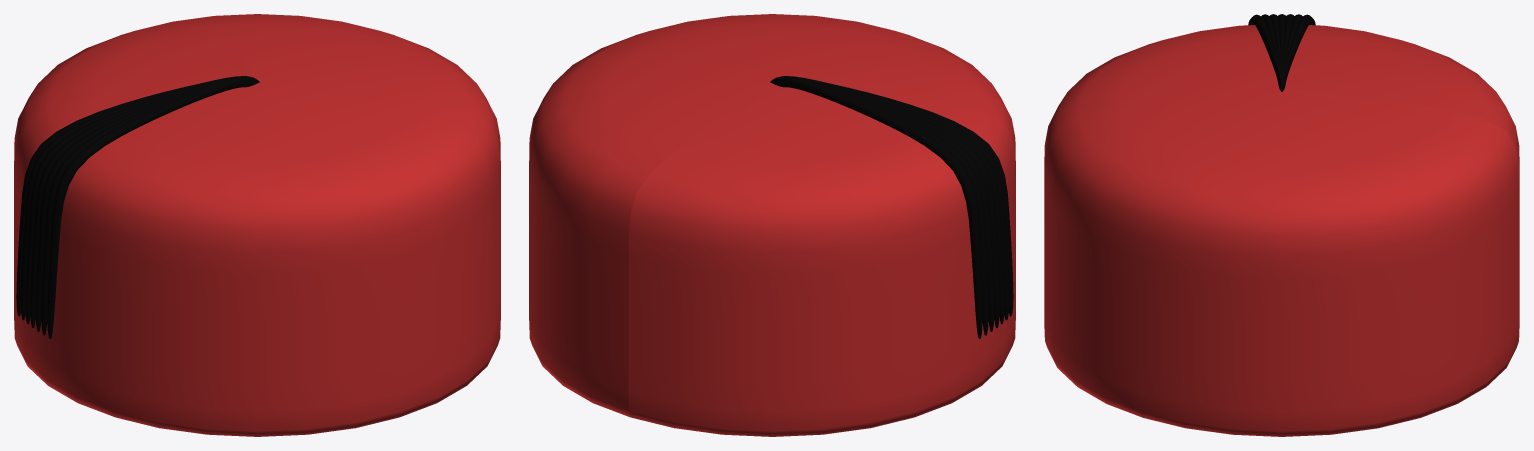
The model's file is Chechia.fbx.
3 views of the same model, side by side, from view 1: azimuth 30°, elevation 25°; view 2: azimuth 150°, elevation 25°; view 3: azimuth 270°, elevation 25° (orthographic). The views are drawn at different scales.
Parts seen in each view (by area): view 1: CHACHIYA MATERIAL _0, Object_27, Object_25, Object_17, Object_11, Object_9, Object_13, Object_15; view 2: CHACHIYA MATERIAL _0, Object_15, Object_13, Object_9, Object_11, Object_17, Object_25, Object_27; view 3: CHACHIYA MATERIAL _0, Object_15, Object_27.
Boxes of the visible parts, left/top/right/bottom form: CHACHIYA MATERIAL _0: left=14, top=14, right=500, bottom=436; Object_27: left=47, top=77, right=258, bottom=338; Object_25: left=41, top=77, right=251, bottom=335; Object_17: left=35, top=76, right=247, bottom=331; Object_11: left=30, top=76, right=250, bottom=328; Object_9: left=25, top=76, right=247, bottom=324; Object_13: left=20, top=76, right=249, bottom=320; Object_15: left=16, top=76, right=259, bottom=316; CHACHIYA MATERIAL _0: left=529, top=14, right=1015, bottom=436; Object_15: left=771, top=77, right=982, bottom=338; Object_13: left=778, top=77, right=988, bottom=335; Object_9: left=782, top=76, right=994, bottom=331; Object_11: left=779, top=76, right=999, bottom=328; Object_17: left=782, top=76, right=1004, bottom=324; Object_25: left=780, top=76, right=1009, bottom=320; Object_27: left=770, top=76, right=1013, bottom=316; CHACHIYA MATERIAL _0: left=1044, top=25, right=1519, bottom=436; Object_15: left=1281, top=14, right=1315, bottom=91; Object_27: left=1248, top=14, right=1282, bottom=91.
Size of the model in its own units: 18.83 by 10.76 by 18.09.
